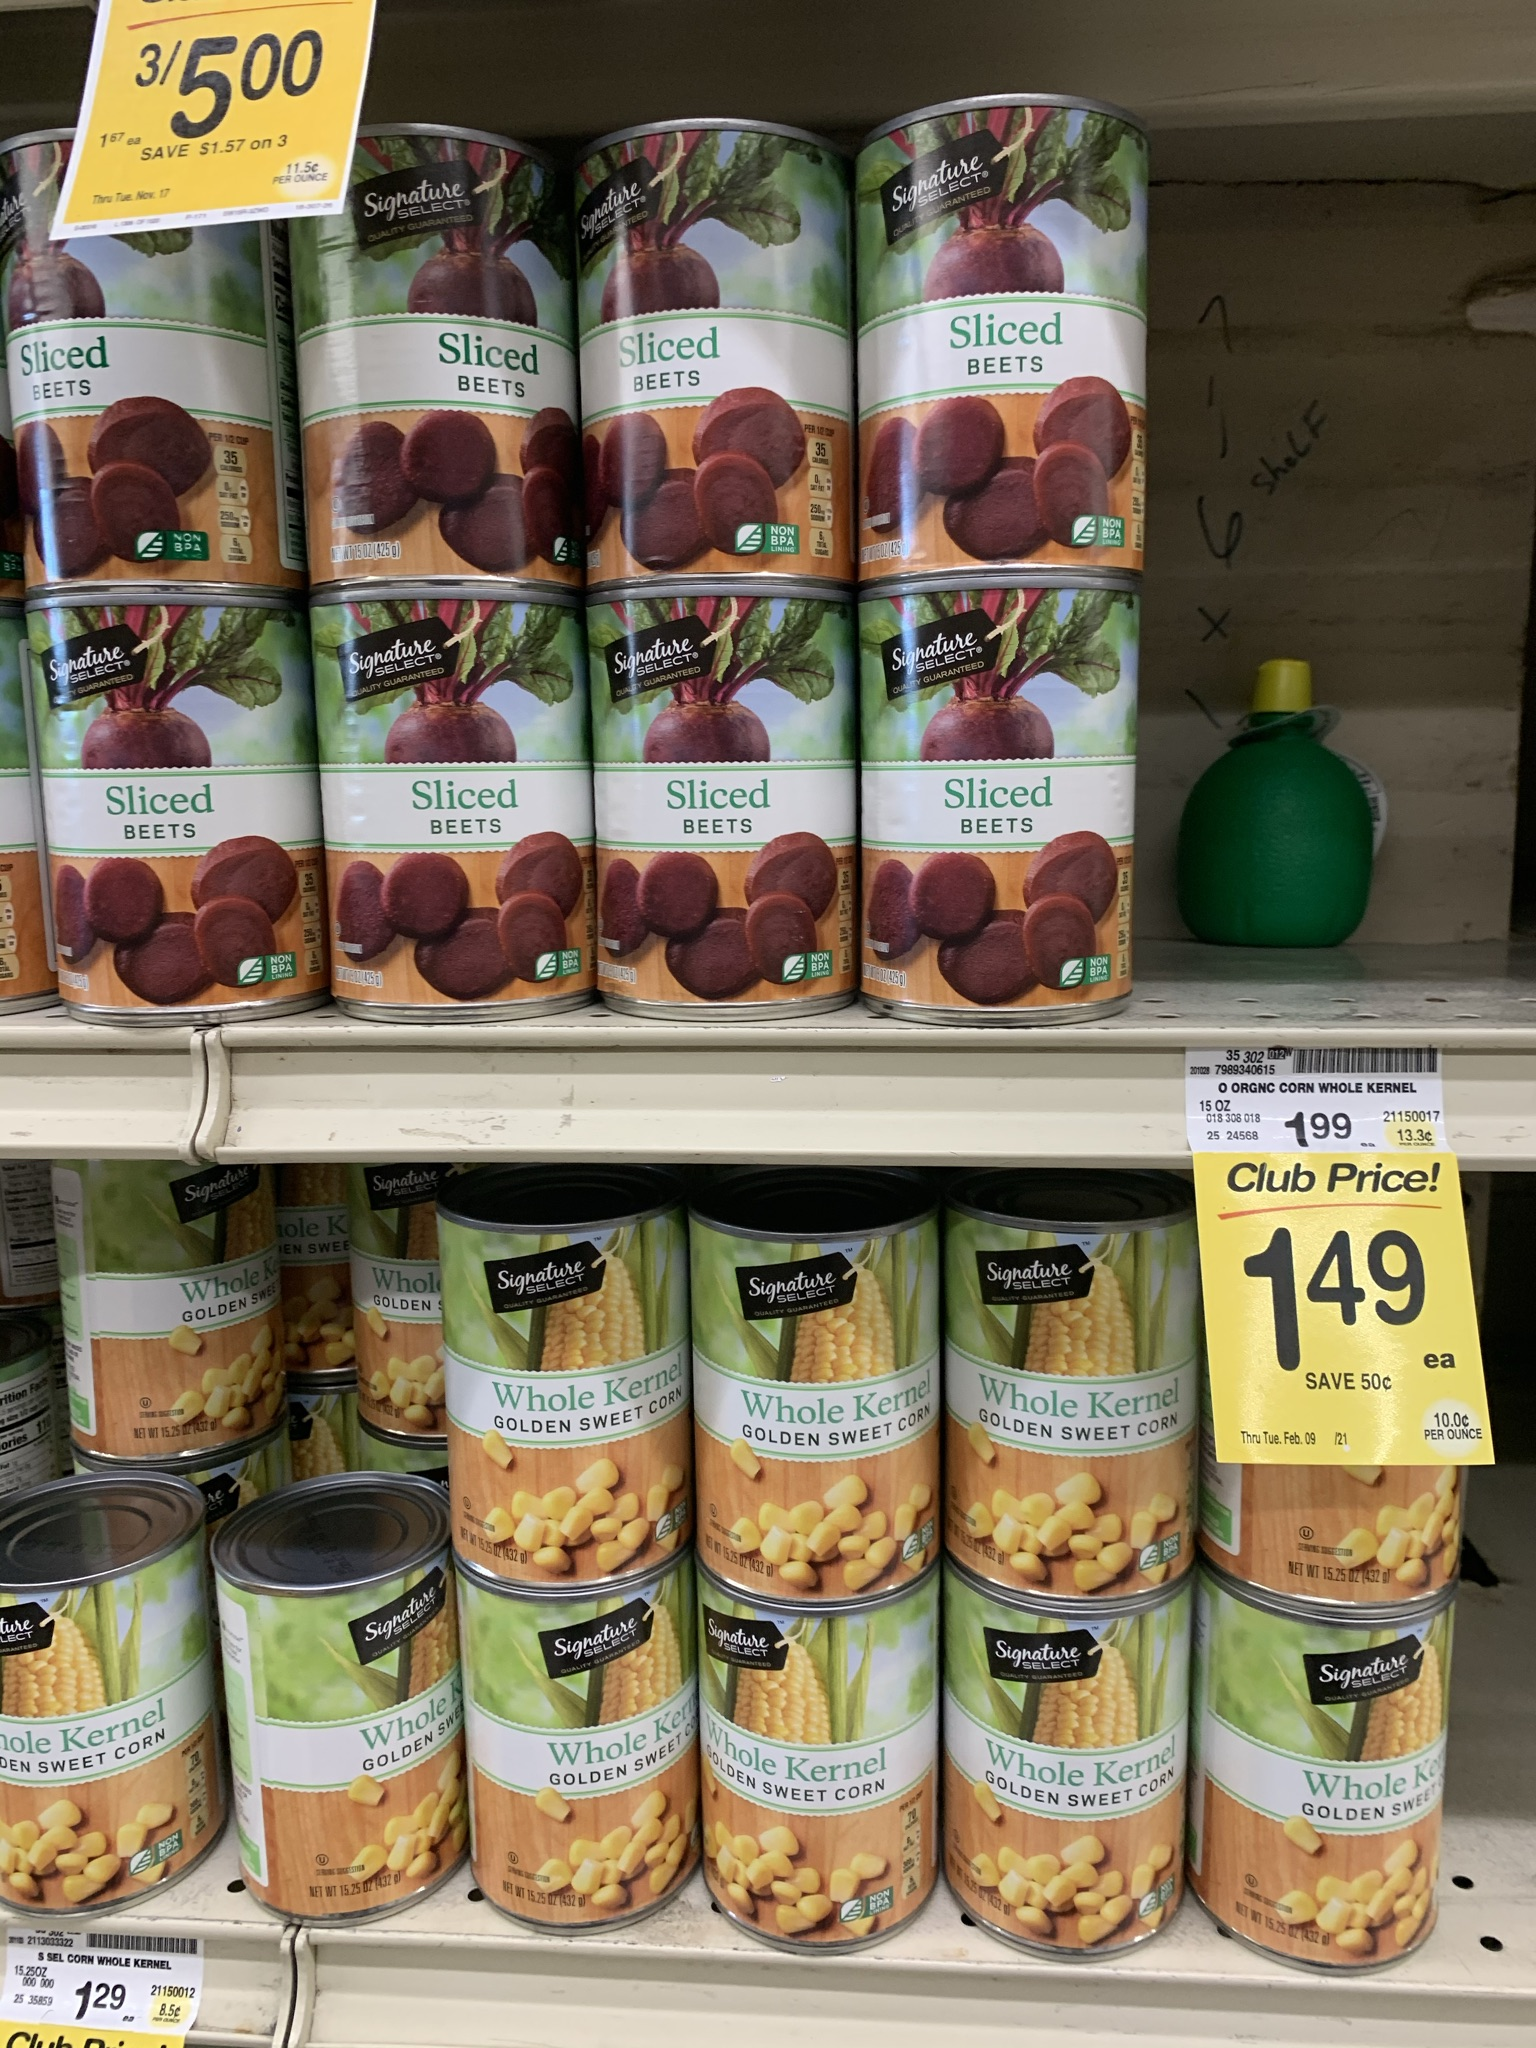can: (874, 142, 1137, 572), (586, 148, 837, 587), (879, 608, 1133, 1008), (611, 614, 860, 1009), (11, 242, 287, 589), (336, 622, 579, 1008), (63, 634, 310, 1005), (345, 169, 557, 589), (700, 1230, 939, 1558), (970, 1240, 1187, 1587), (10, 1506, 219, 1864), (244, 1535, 458, 1871), (473, 1226, 682, 1566), (715, 1609, 937, 1913), (1226, 1619, 1438, 1938), (965, 1609, 1173, 1921), (481, 1601, 684, 1888)
